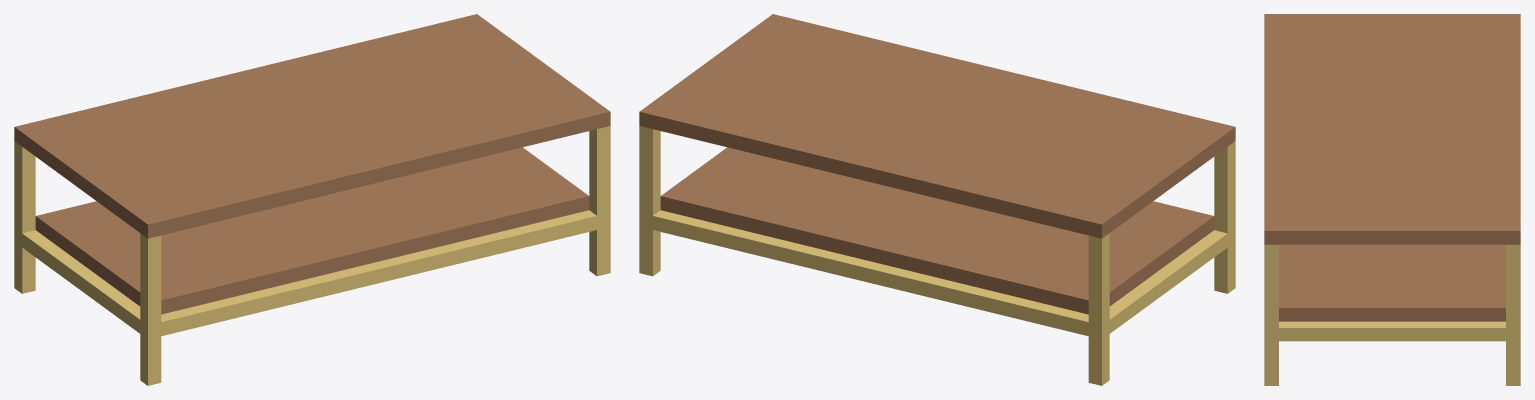
3 renders of one model, left to right at view 1: azimuth 30°, elevation 25°; view 2: azimuth 150°, elevation 25°; view 3: azimuth 270°, elevation 25°, orthographic. The views are drawn at different scales.
Parts seen in each view (by area): view 1: Tabletop, Shelf, object 3; view 2: Tabletop, Shelf, object 3; view 3: Tabletop, Shelf, object 3.
Boxes of the visible parts, x1,y1,x2,y2 form: Tabletop: (14,14,610,238); Shelf: (35,147,589,314); object 3: (14,126,610,385); Tabletop: (639,14,1235,238); Shelf: (660,147,1214,314); object 3: (639,126,1235,385); Tabletop: (1264,14,1520,244); Shelf: (1279,244,1505,321); object 3: (1264,244,1520,385).
Bounding box in the file's own units: 1.2 × 0.4 × 0.6.
